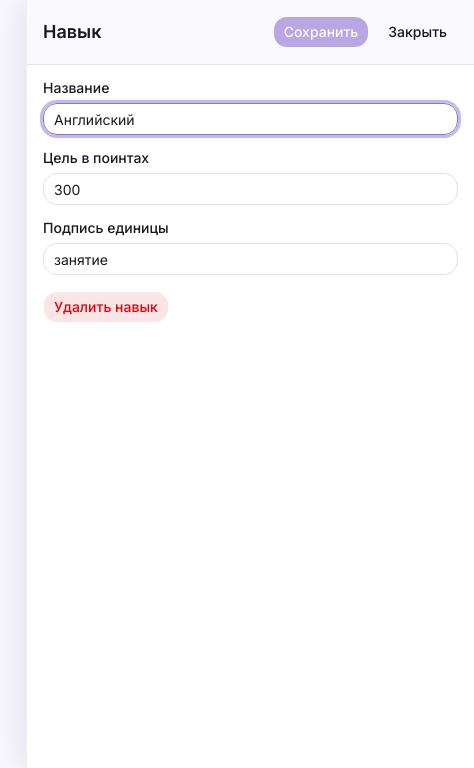
it: SkillDrawer › требует положительную цель
The image size is (474, 768).
Replace the text in the field labelled "Цель в поинтах" with "0": point(250, 189) 43,173 -> 458,205
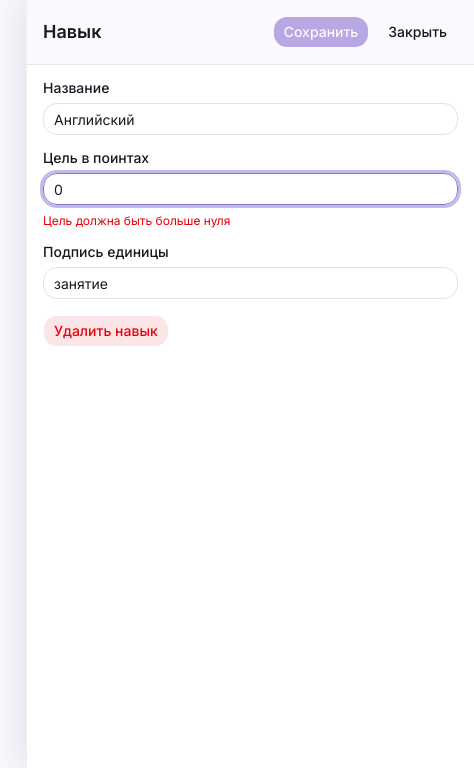
Expected: the button "Сохранить" is disabled, 273,16 -> 369,48
Expected: the message shows "больше нуля", 43,213 -> 230,228
